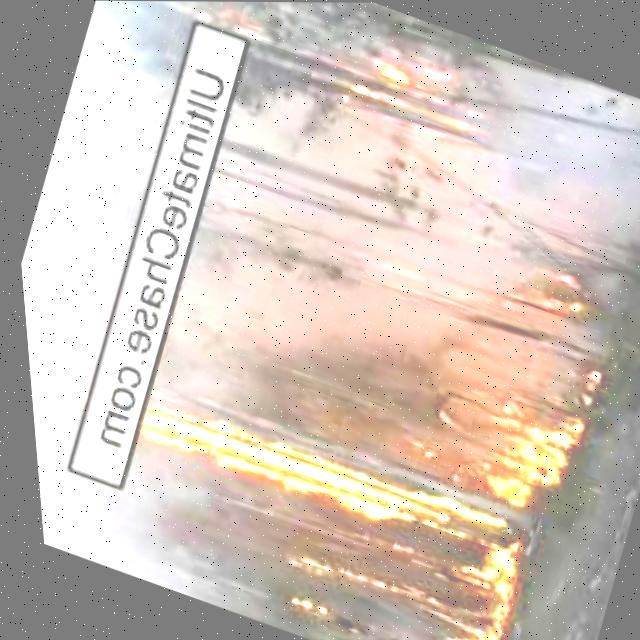Fire: (385, 370, 596, 640), (128, 394, 456, 546), (174, 1, 287, 57), (347, 49, 441, 116), (276, 543, 341, 592), (263, 585, 329, 623)
Smoke: (120, 52, 586, 508), (382, 36, 640, 377)
